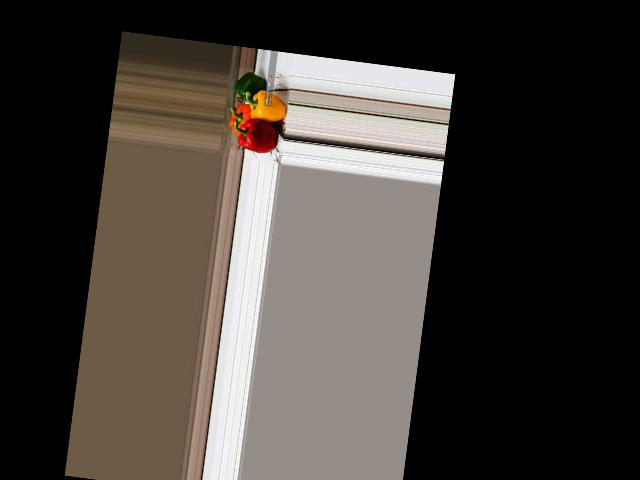bell_pepper: (227, 101, 254, 136)
